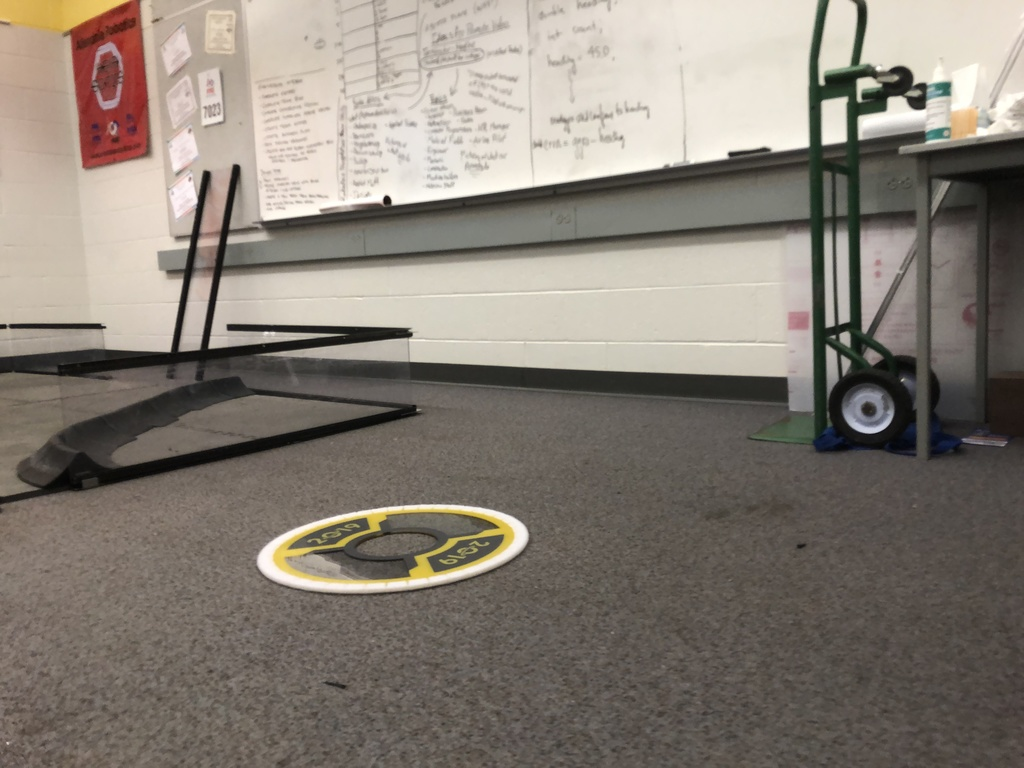hatch_panel: (244, 495, 542, 601)
